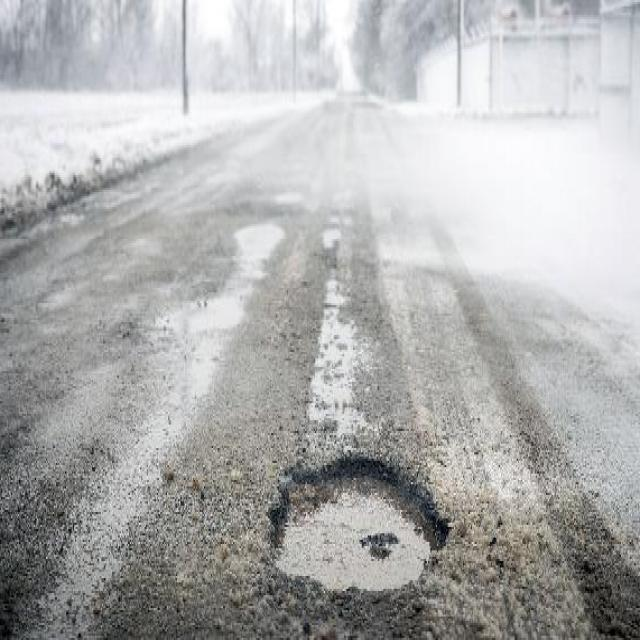pothole: (264, 444, 454, 596)
